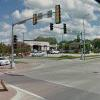Traffic light: (6, 23, 29, 68)
